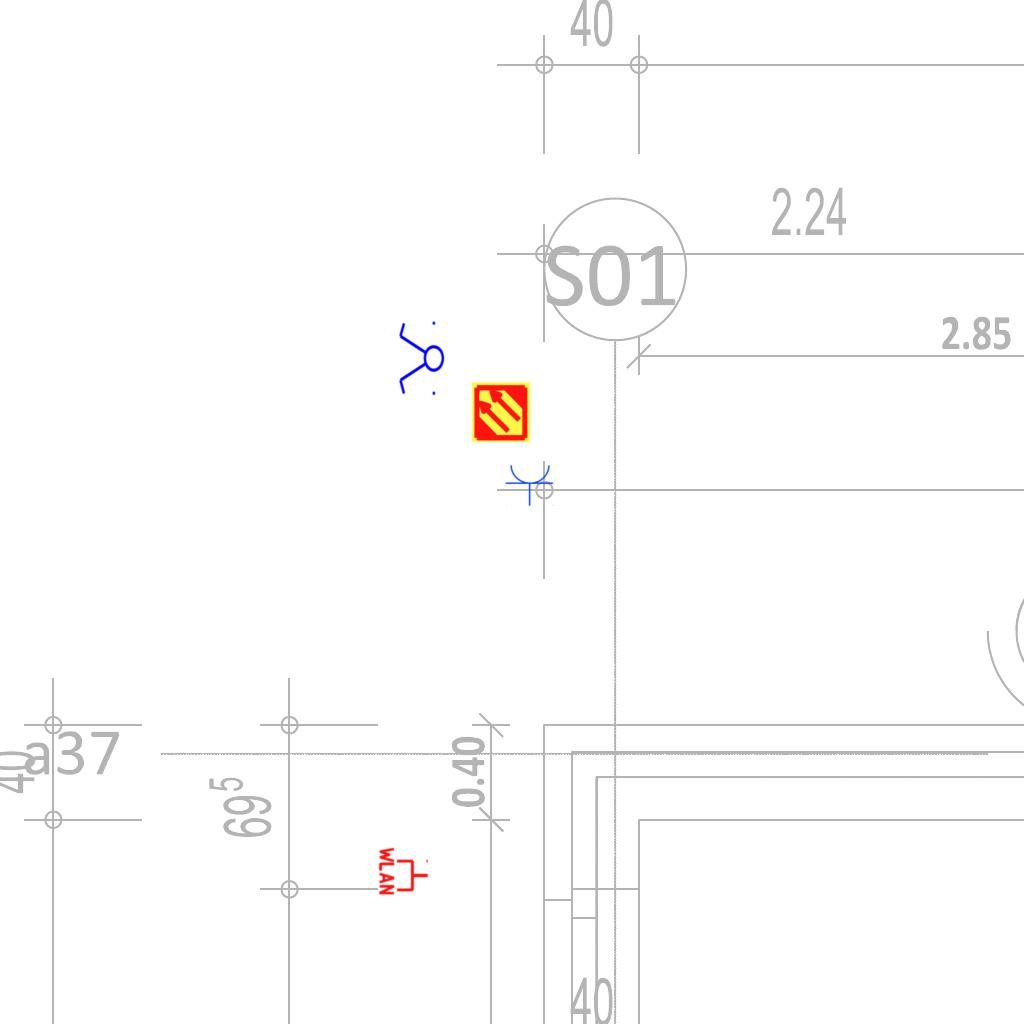ASR_Ansaugrauchmelder: (470, 381, 532, 443)
Schukosteckdose_einfach: (505, 463, 555, 506)
Serienschalter: (397, 317, 445, 401)
WLAN: (378, 845, 430, 897)
